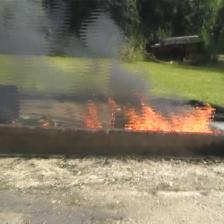fire: (108, 95, 217, 133), (84, 99, 102, 129)
